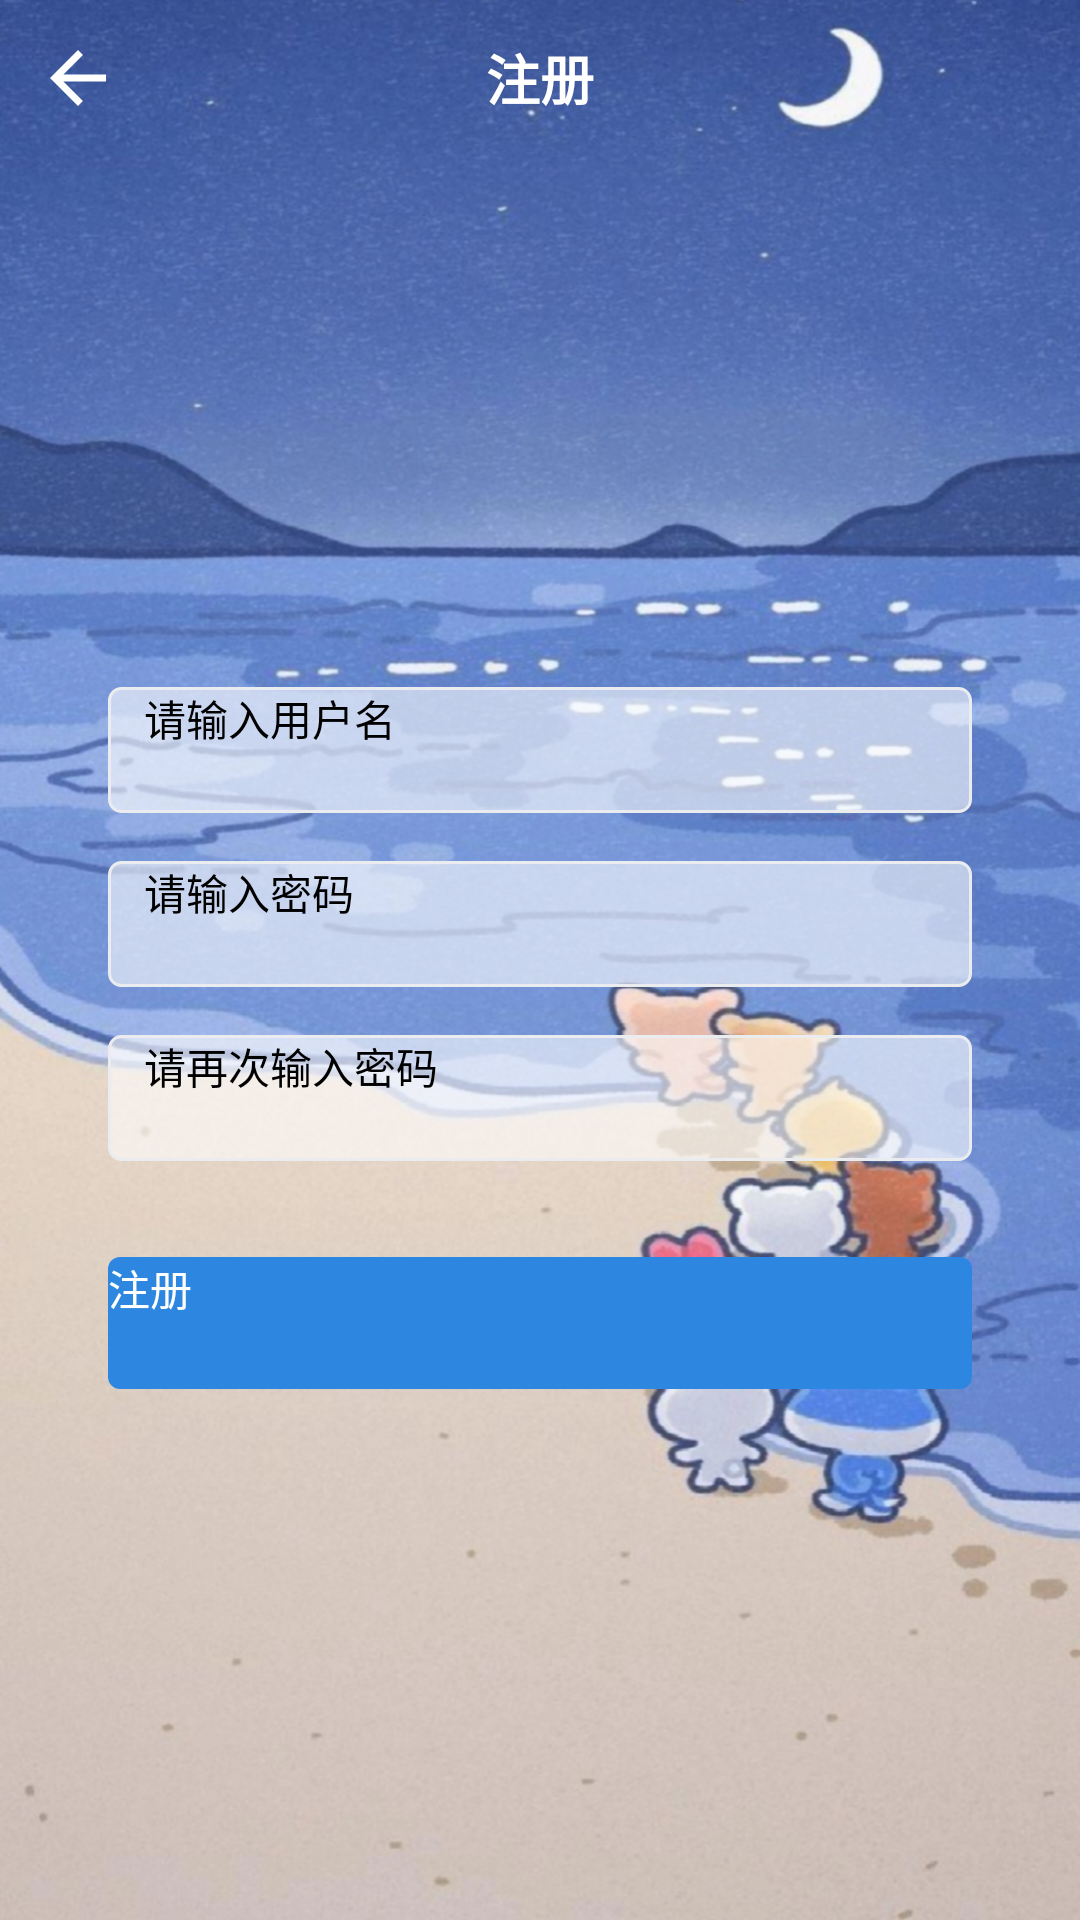

Where to tap for icons on this 1080x1920 app screen, as [x,y]:
back: [78,78]
